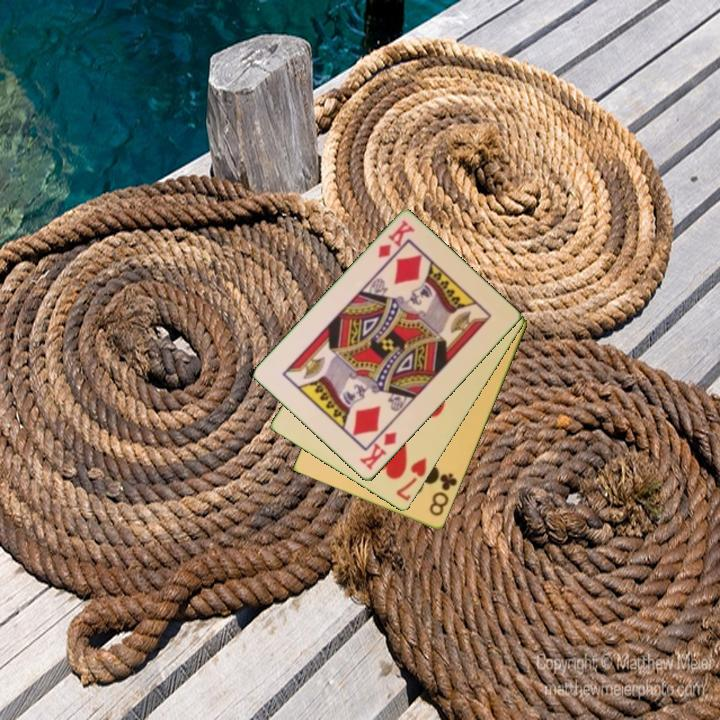7h: (392, 454, 430, 504)
8c: (426, 470, 460, 519)
Kd: (356, 428, 400, 473), (374, 217, 418, 261)
